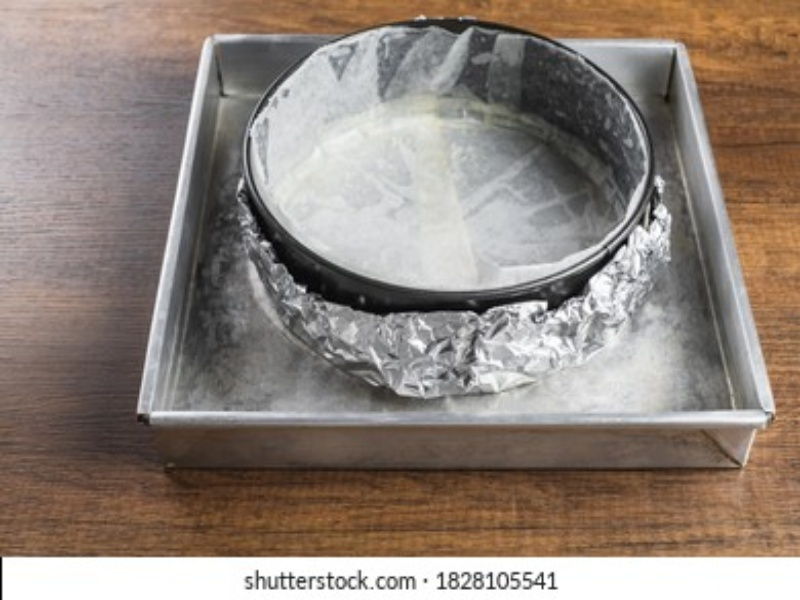Aluminium_Foil: (230, 189, 670, 414)
